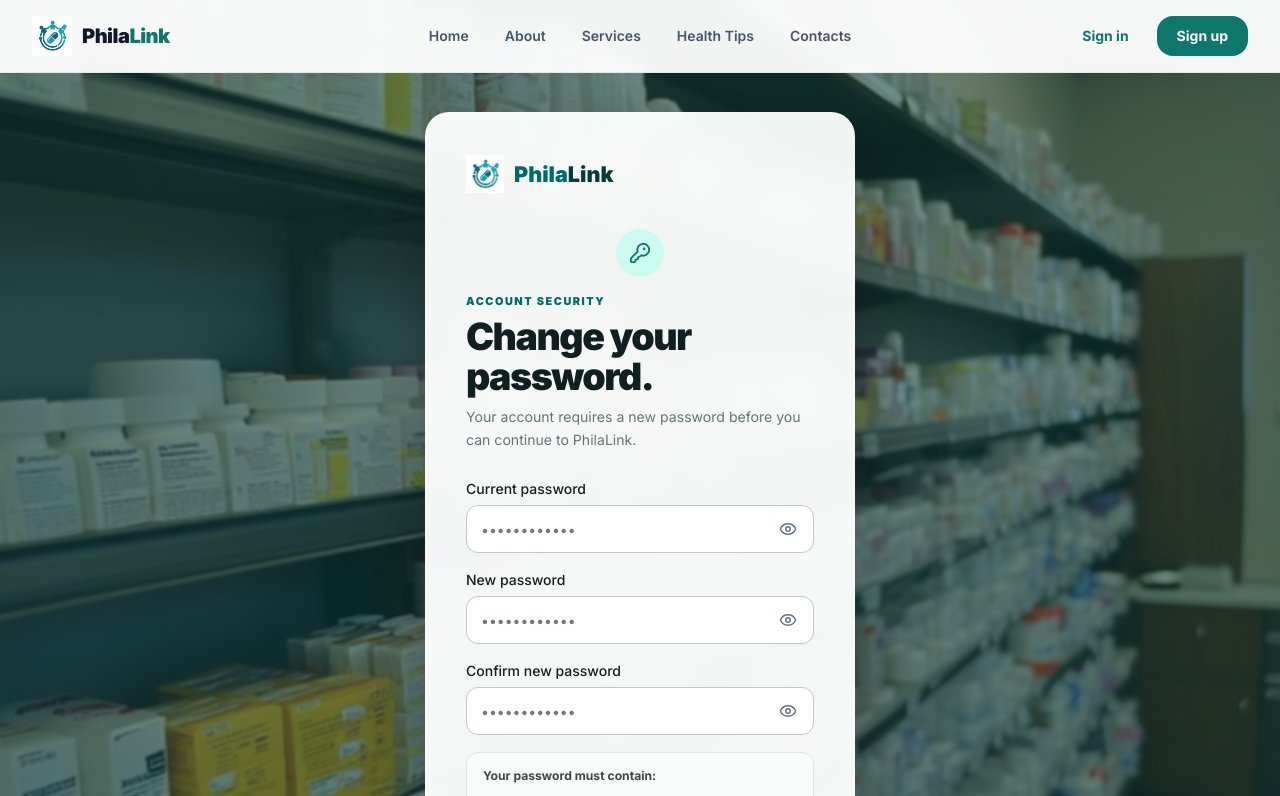
it: ChangePasswordPage › shows the backend password-change error
Type "TemporaryPass!123" into the password field labelled "Current password" at point(640, 529), box [466,505,814,553]
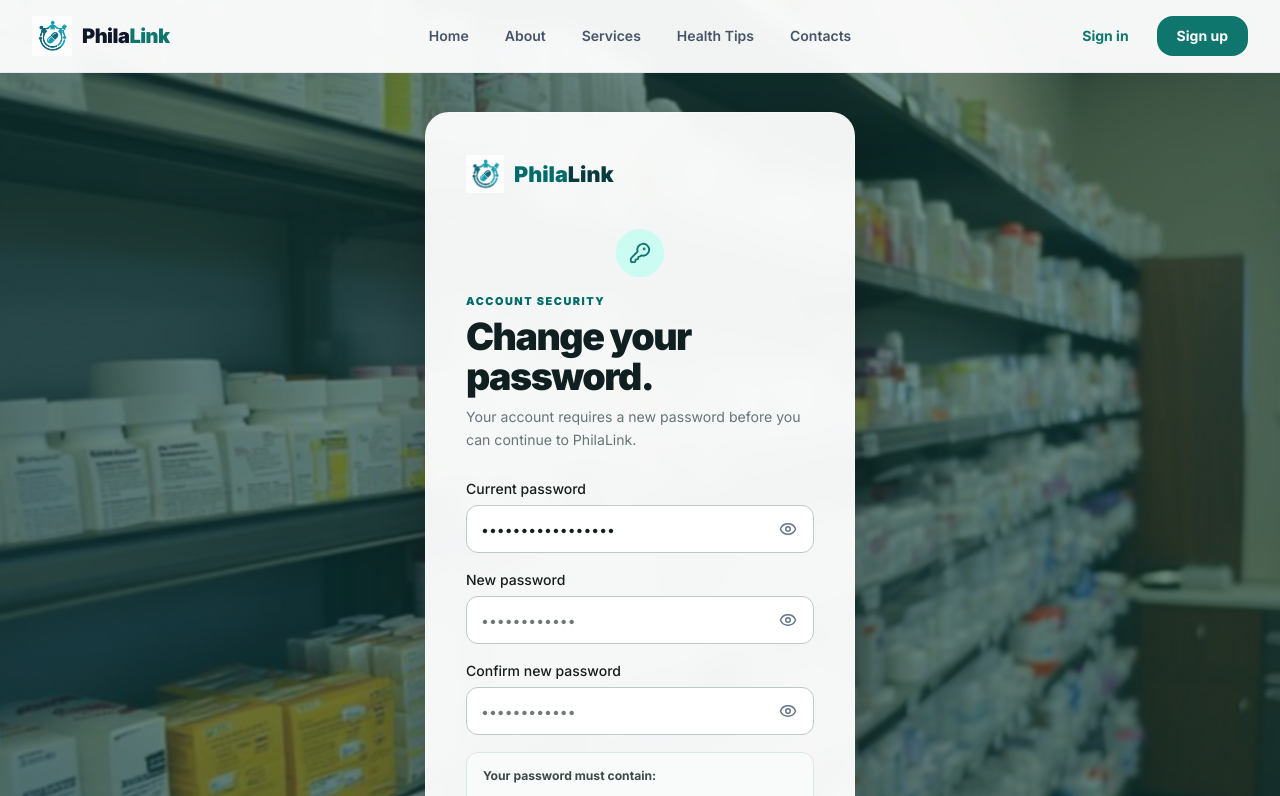
Type "PermanentPass!123" into the password field labelled "New password" at point(640, 620), box [466,596,814,644]
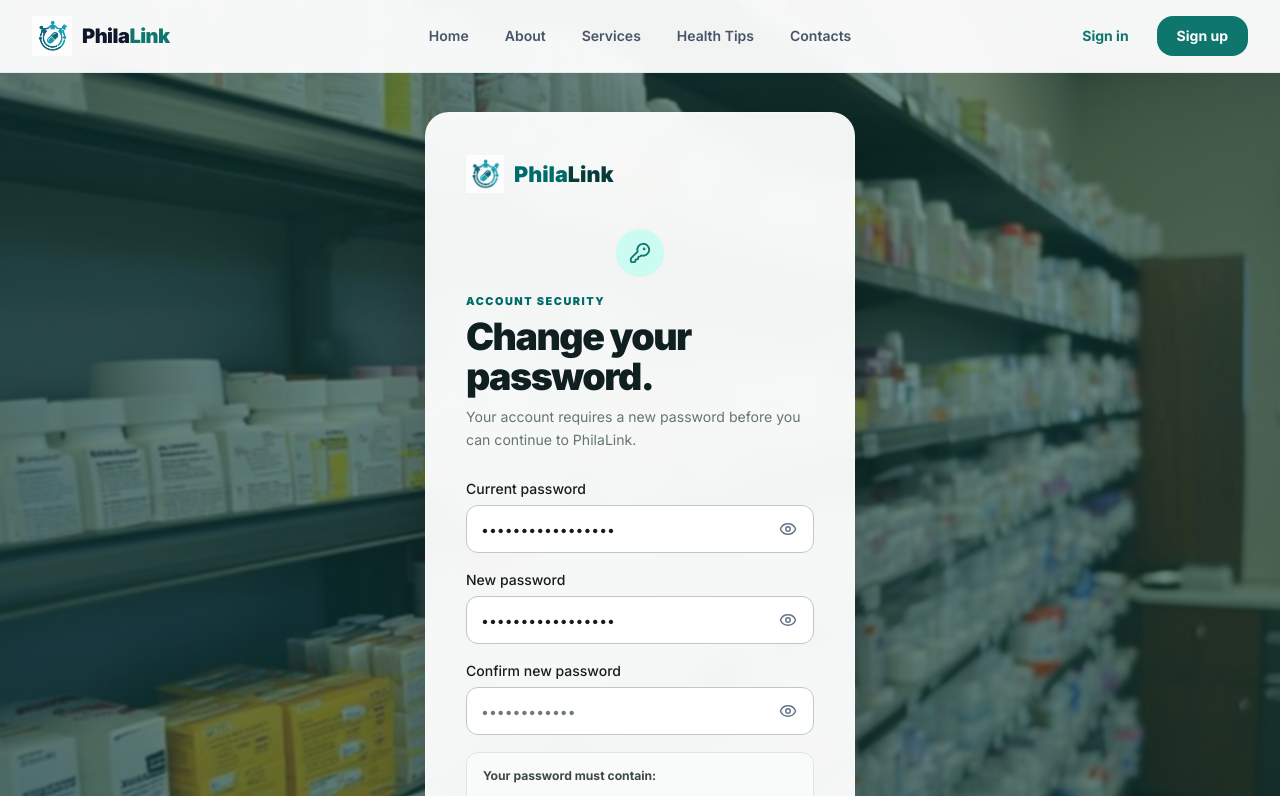
Type "PermanentPass!123" into the password field labelled "Confirm new password" at point(640, 711), box [466,687,814,735]
(page scrolled)
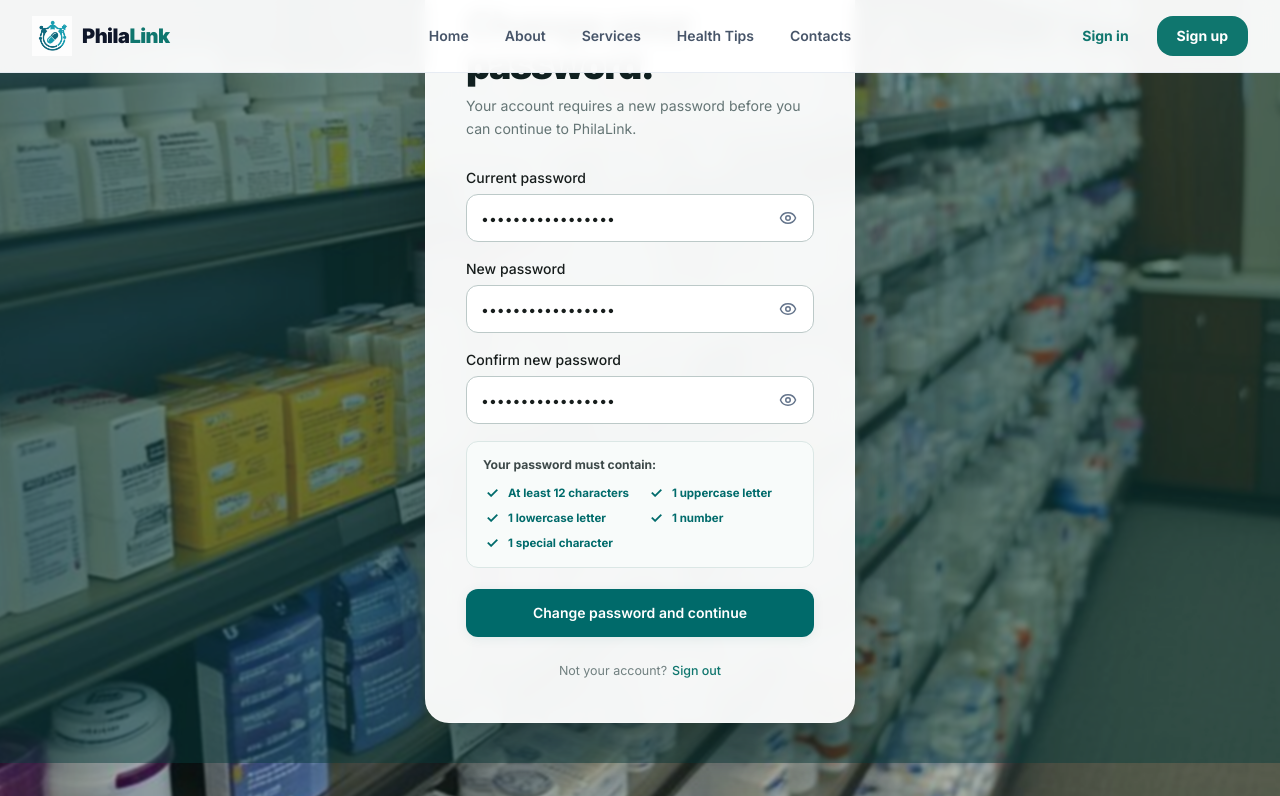
Click the button "Change password and continue" at point(640, 612), box [466,588,814,636]
(page scrolled)
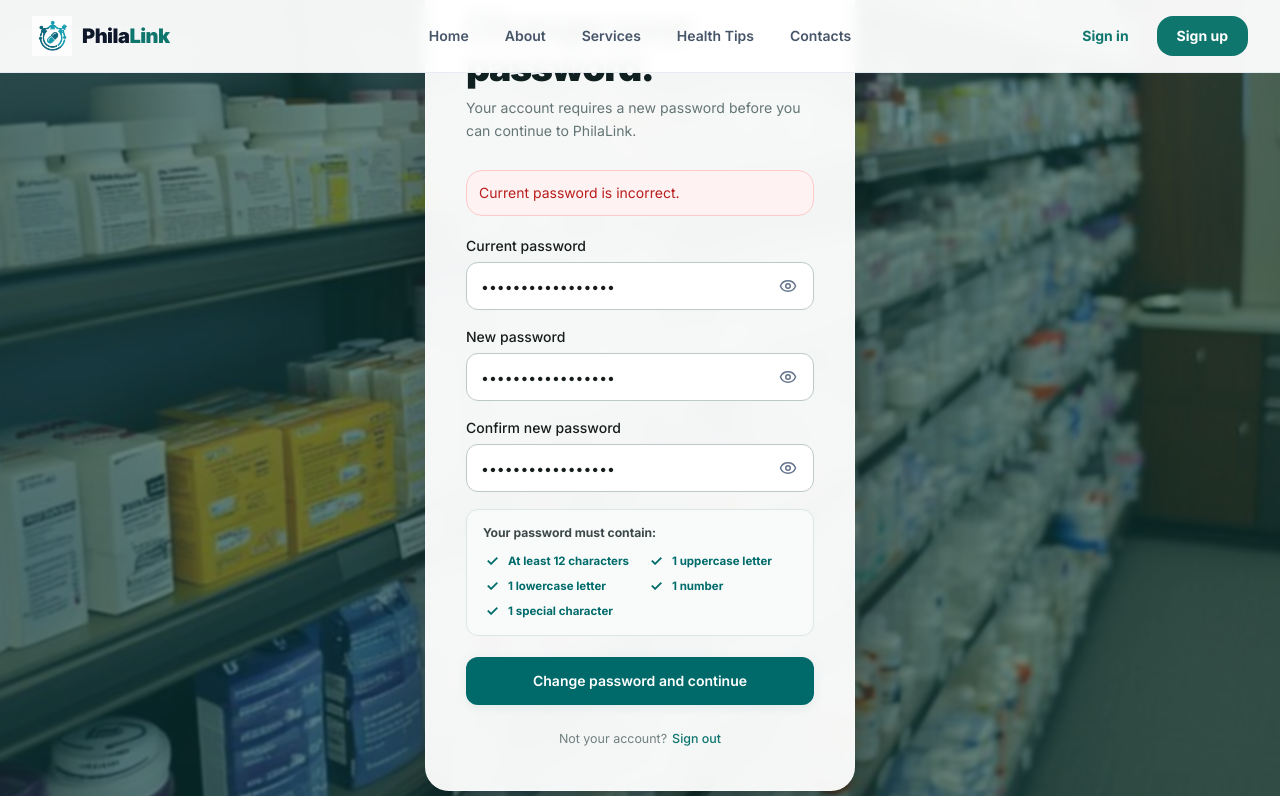
expect the text "Current password is incorrect." is shown: met, box [479,184,680,201]
